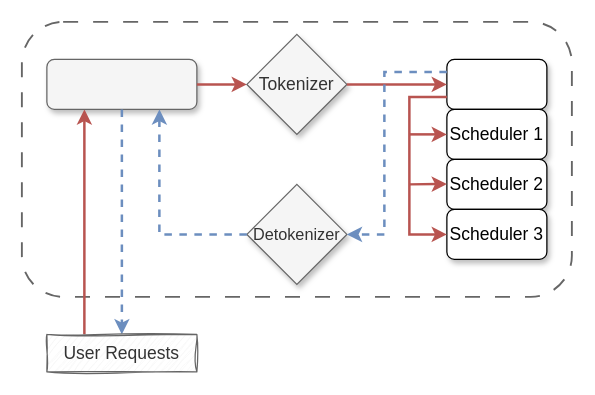
The diagram is 595 pixels wide and 395 high, and some of its shapes have lost their labels. Here are the shapes that lost their labels. From the top down, the centre of each, then its label:
At point (122, 85): "API Server".
At point (497, 85): "Scheduler 0".
